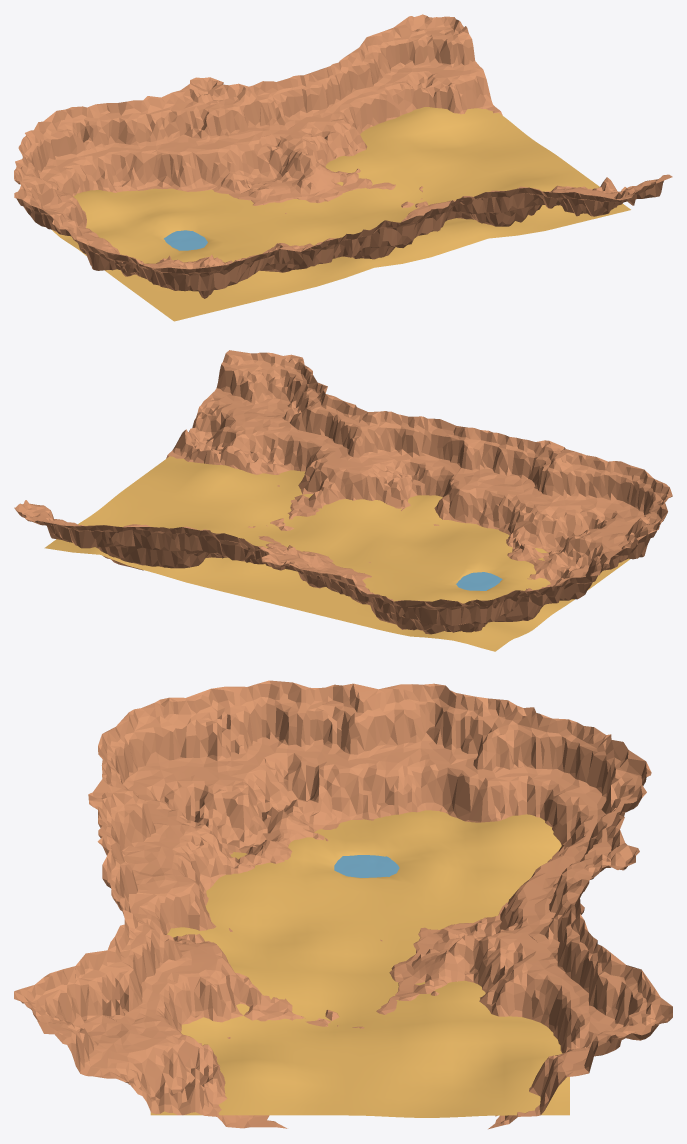
File: Savanna_Scene.fbx
3 renders of one model, top to bottom at view 1: azimuth 30°, elevation 25°; view 2: azimuth 150°, elevation 25°; view 3: azimuth 270°, elevation 25°, orthographic. The views are drawn at different scales.
Parts seen in each view (by area): view 1: Landscape_003, Plane_025, Plane_023; view 2: Landscape_003, Plane_025, Plane_023; view 3: Landscape_003, Plane_025, Plane_023.
Part boxes in pixels (left/top/right/bottom): Landscape_003: left=14, top=14, right=672, bottom=298; Plane_025: left=52, top=107, right=630, bottom=321; Plane_023: left=164, top=230, right=207, bottom=250; Landscape_003: left=14, top=350, right=672, bottom=634; Plane_025: left=44, top=456, right=630, bottom=651; Plane_023: left=456, top=572, right=502, bottom=590; Landscape_003: left=14, top=680, right=672, bottom=1129; Plane_025: left=150, top=810, right=569, bottom=1117; Plane_023: left=334, top=855, right=399, bottom=877.
Bounding box in the file's own units: 16758 × 2338 × 13411.
